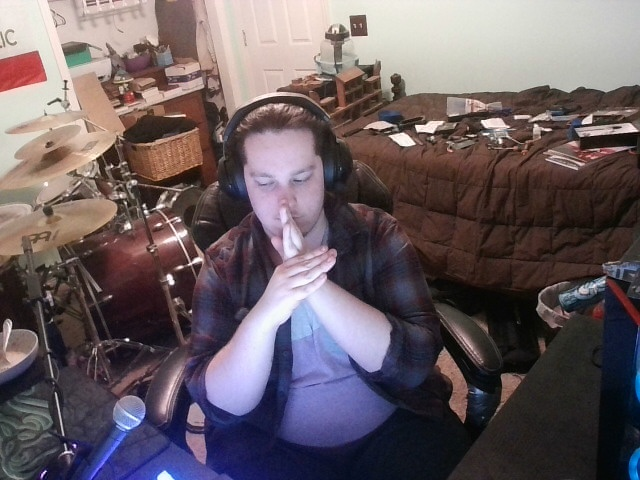quiet: (249, 204, 357, 315)
